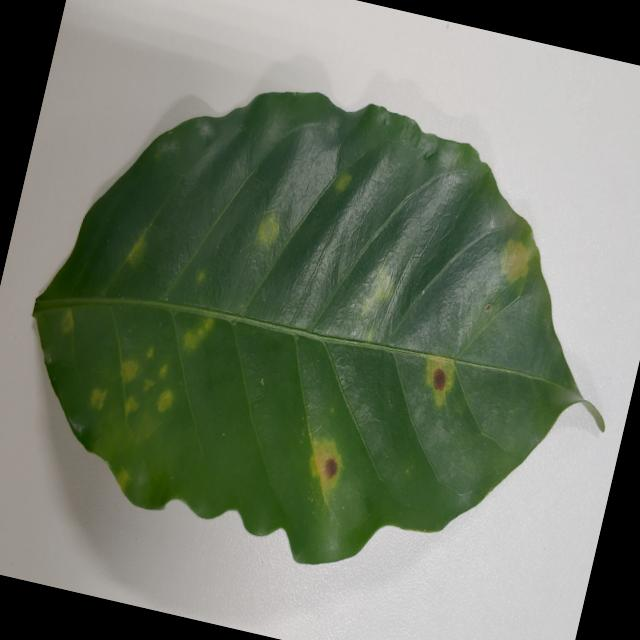KaratDaunKopi: (310, 441, 340, 495), (361, 263, 392, 315), (426, 359, 453, 406), (500, 240, 529, 282), (256, 212, 279, 246), (126, 233, 145, 266), (126, 234, 145, 266), (120, 359, 138, 383), (334, 172, 351, 194), (90, 387, 106, 410), (157, 390, 172, 412), (61, 308, 73, 333), (124, 396, 138, 415)
